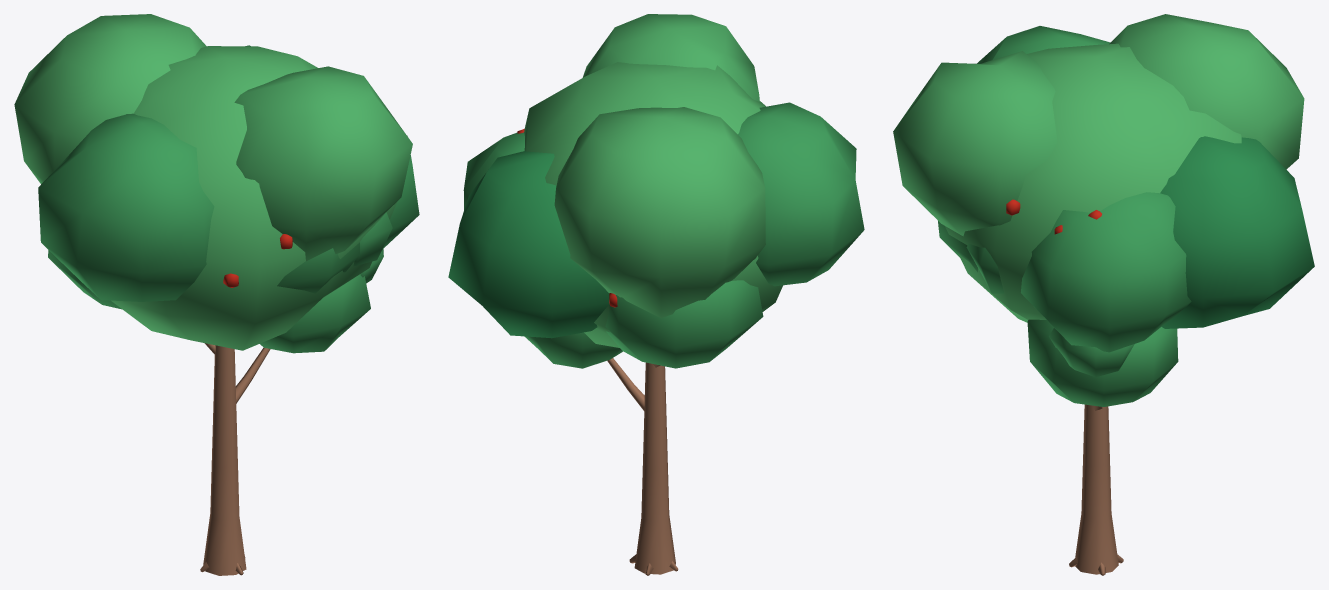
Rendered from flora_tree_rowan.gltf.
The picture shows the model from 3 angles, left to right: view 1: azimuth 30°, elevation 25°; view 2: azimuth 150°, elevation 25°; view 3: azimuth 270°, elevation 25°; orthographic projection. The views are drawn at different scales.
Visible parts, largest first — view 1: flora_tree_rowan; view 2: flora_tree_rowan; view 3: flora_tree_rowan.
Part boxes in pixels (x1,y1,x2,y2): flora_tree_rowan: [14, 14, 419, 575]; flora_tree_rowan: [448, 14, 864, 575]; flora_tree_rowan: [893, 14, 1314, 575].
Size of what is drawn, in the model's own units: 5.23 by 6.87 by 5.09.
